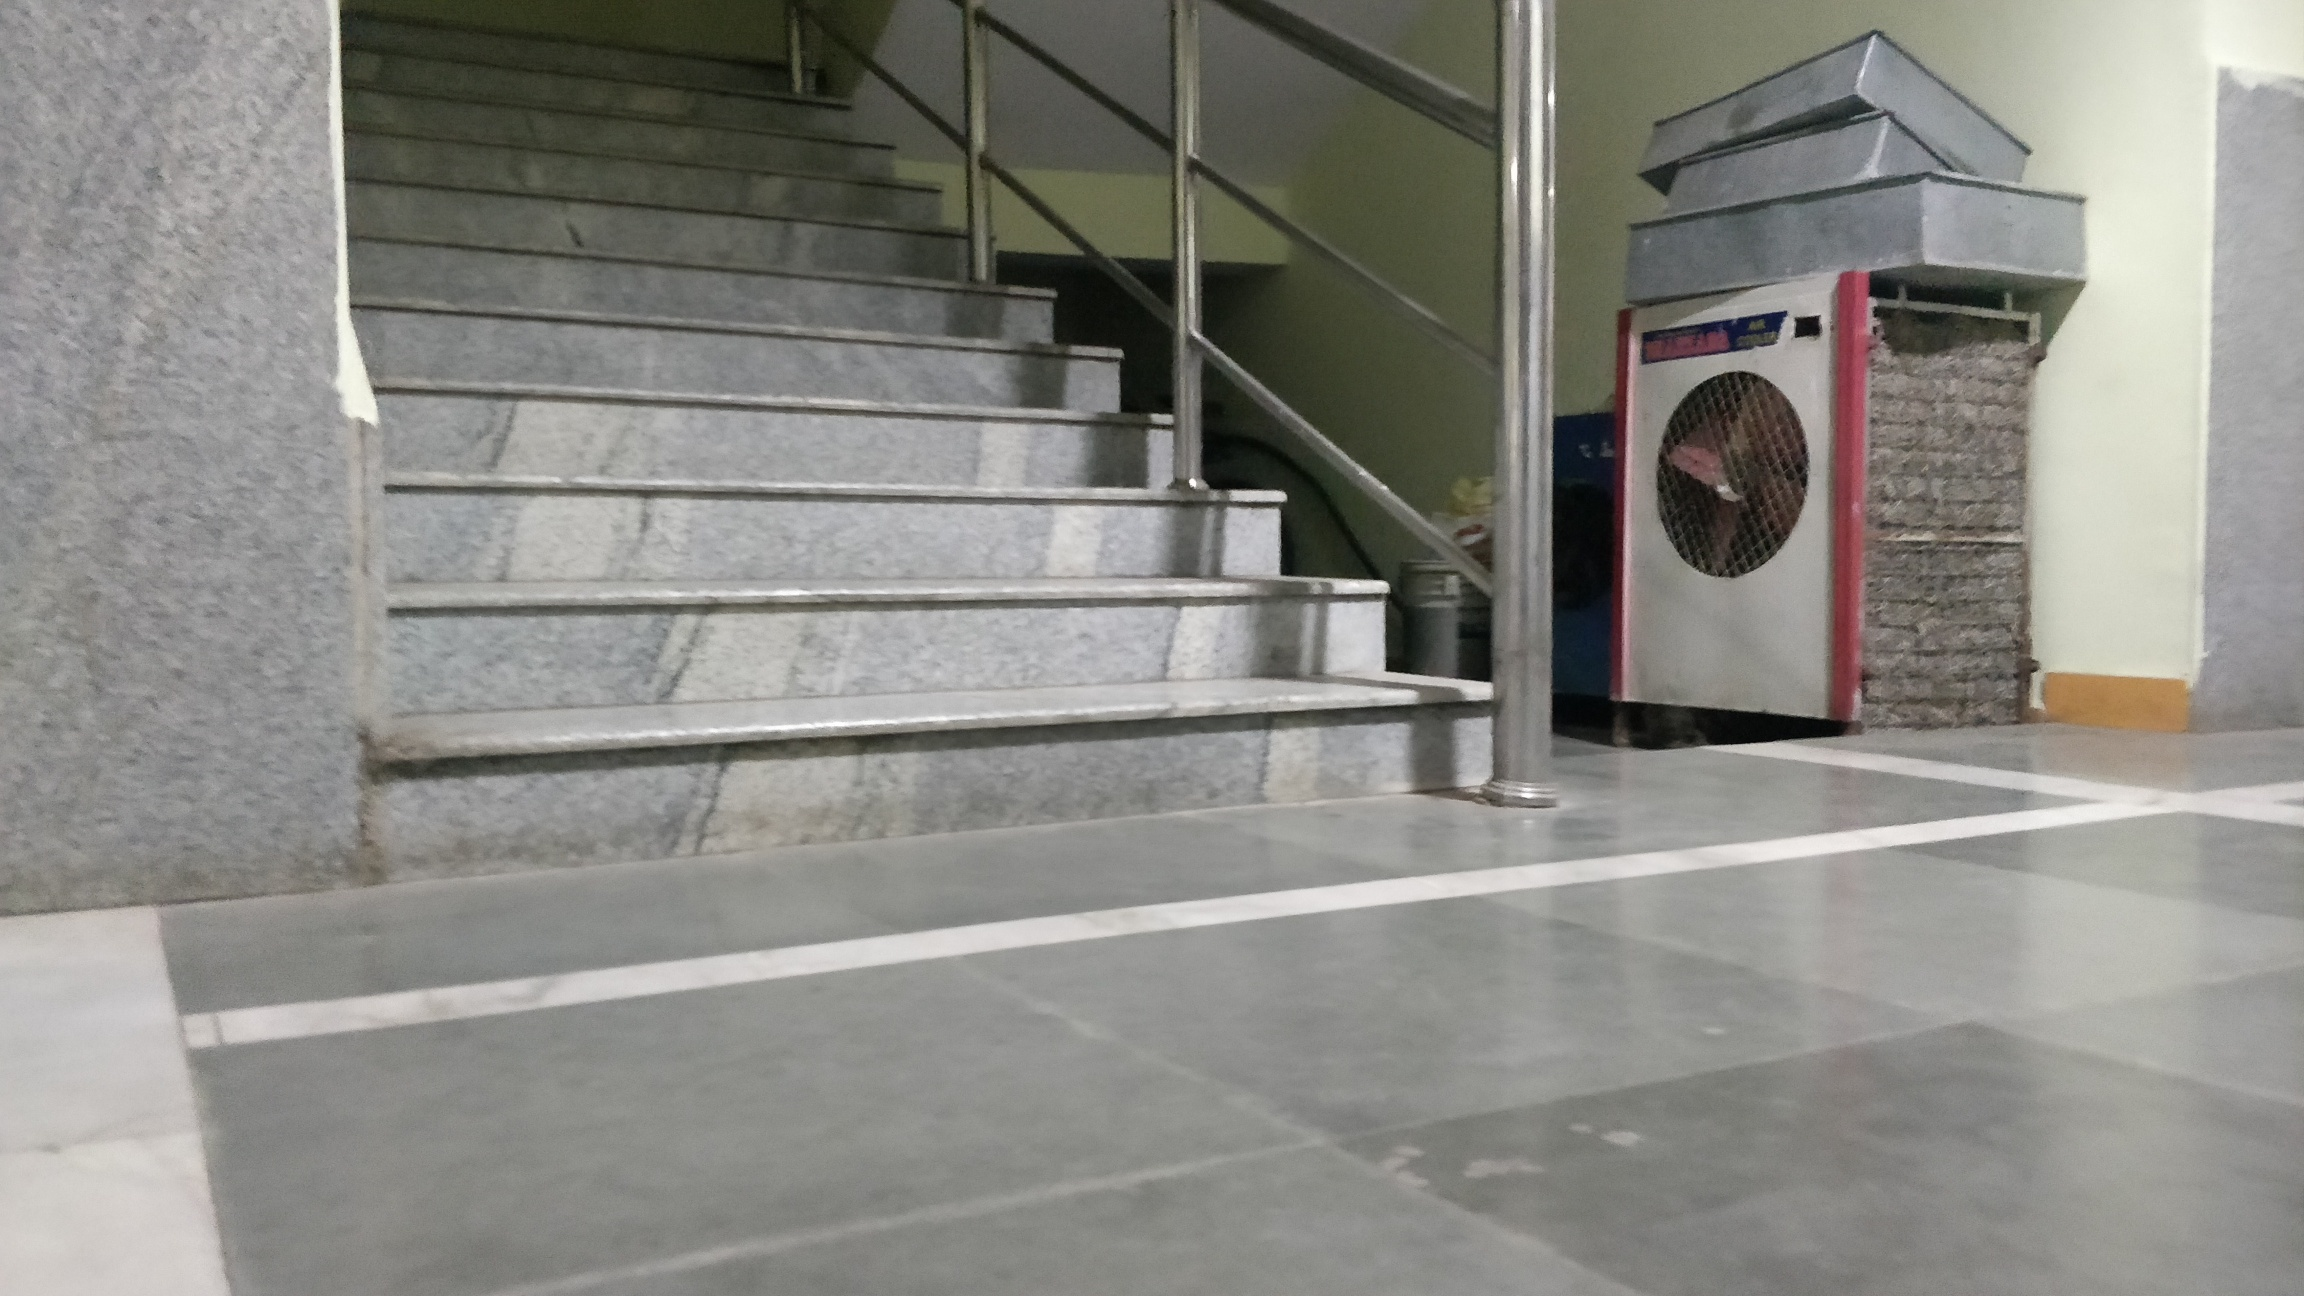stairs_up: (358, 9, 1442, 837)
